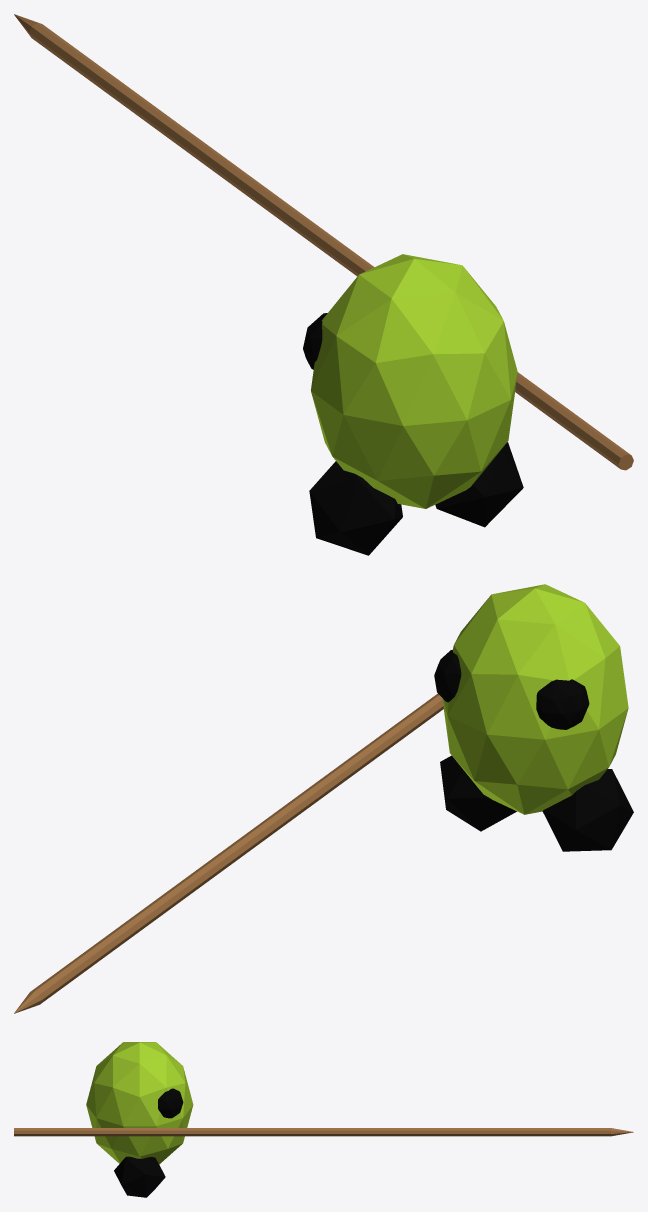
File: stab.f0013.glb
The picture shows the model from 3 angles, top to bottom: view 1: azimuth 30°, elevation 25°; view 2: azimuth 150°, elevation 25°; view 3: azimuth 270°, elevation 25°; orthographic projection. The views are drawn at different scales.
Parts seen in each view (by area): view 1: Body.001; view 2: Body.001; view 3: Body.001.
Boxes of the visible parts, x1=… form: Body.001: x1=14, y1=14, x2=633, y2=555; Body.001: x1=14, y1=584, x2=633, y2=1013; Body.001: x1=14, y1=1042, x2=633, y2=1197.
Size of the model in its own units: 2.17 by 2.85 by 11.56.
1 material, 1 textured.
